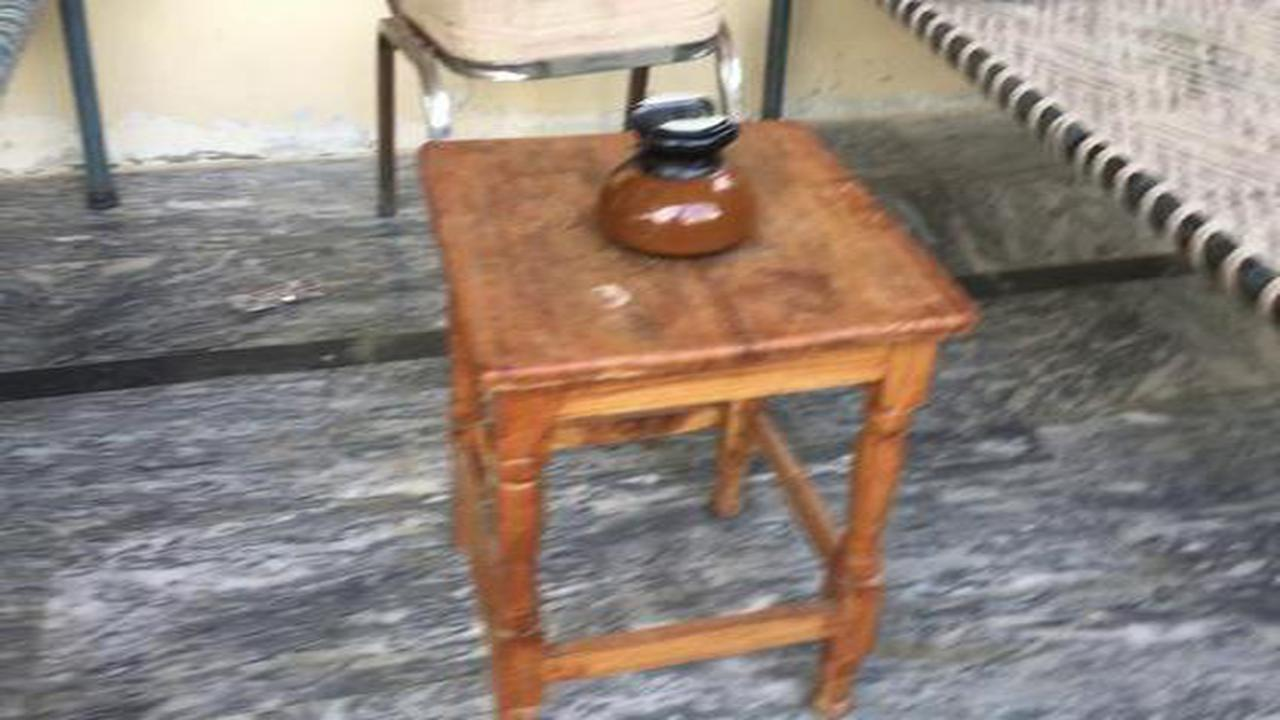insulator_pin: (573, 80, 788, 271)
